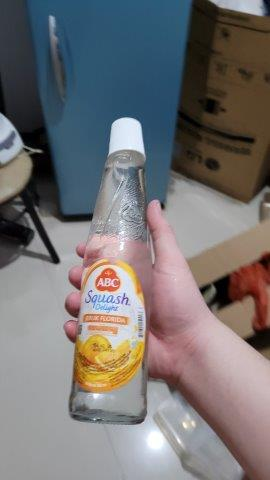botolkaca: (66, 118, 151, 426)
